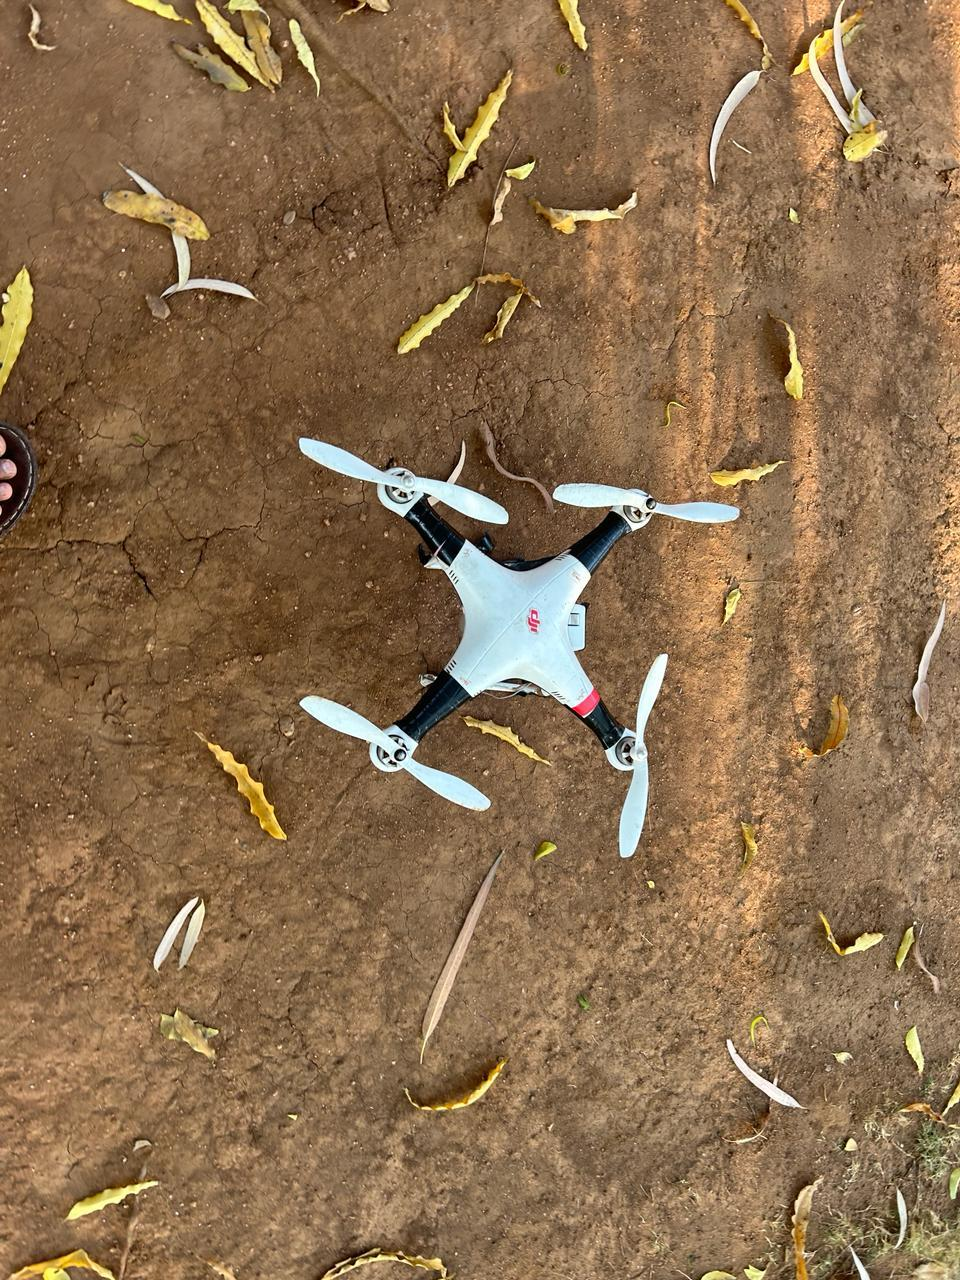drone: (254, 314, 802, 927)
